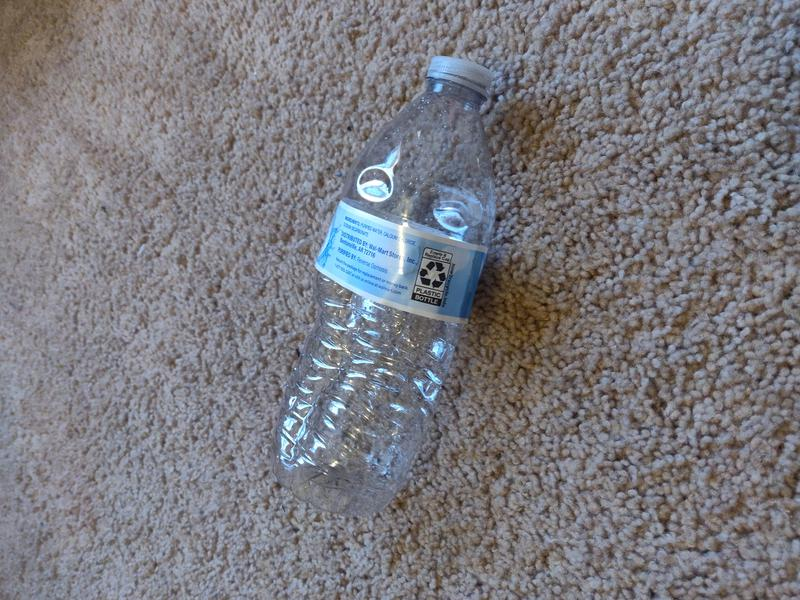bottle: (266, 52, 500, 512)
